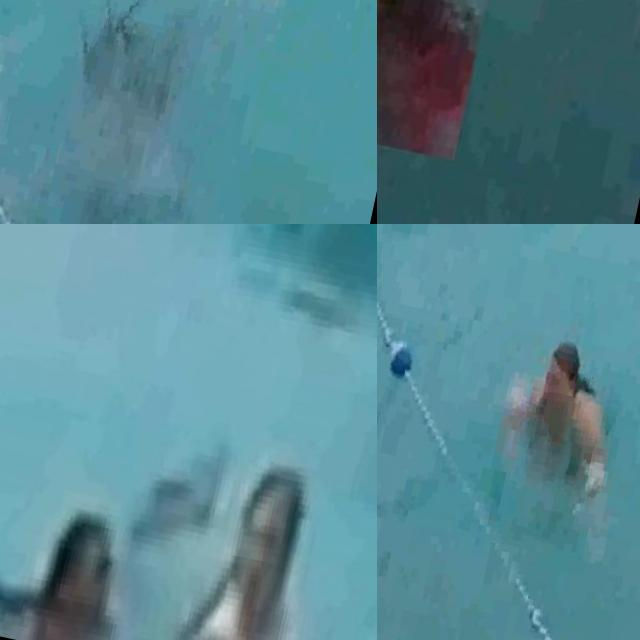drowning: (461, 277, 640, 559), (21, 0, 231, 224), (86, 384, 268, 561), (377, 0, 531, 162)
swimming: (167, 468, 335, 640)
